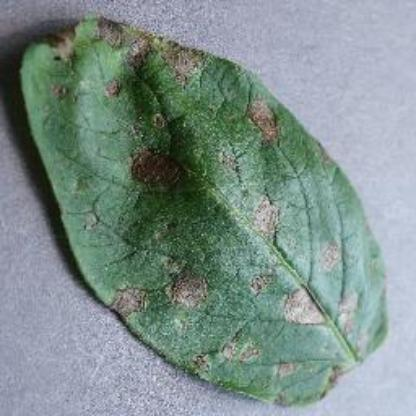Early-Blight: (17, 14, 395, 408)
